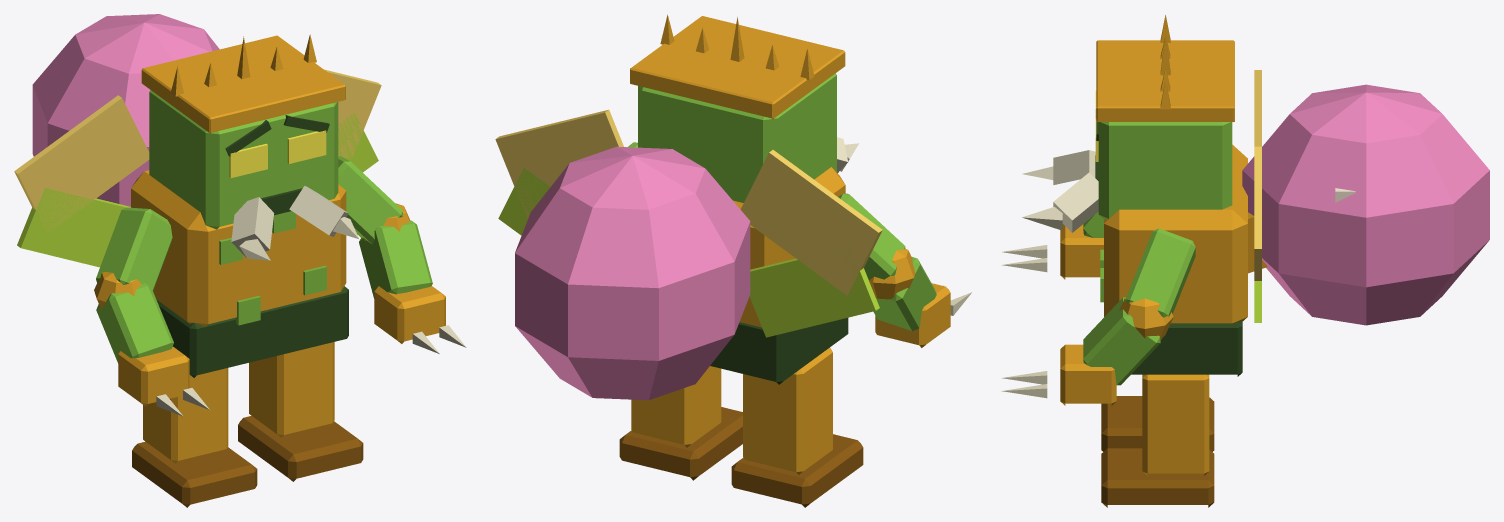
Rendered from r10_boss_hive_queen.glb.
The picture shows the model from 3 angles, left to right: view 1: azimuth 30°, elevation 25°; view 2: azimuth 150°, elevation 25°; view 3: azimuth 270°, elevation 25°; orthographic projection. The views are drawn at different scales.
Visible parts, largest first — view 1: r10_boss_hive_queen_mesh; view 2: r10_boss_hive_queen_mesh; view 3: r10_boss_hive_queen_mesh.
Part boxes in pixels (<box>): r10_boss_hive_queen_mesh: <box>14,14,466,507</box>; r10_boss_hive_queen_mesh: <box>495,14,971,507</box>; r10_boss_hive_queen_mesh: <box>1001,15,1489,507</box>.
Size of the model in its own units: 7.08 by 8 by 8.18.
Materials: 1 (1 with a texture image).
